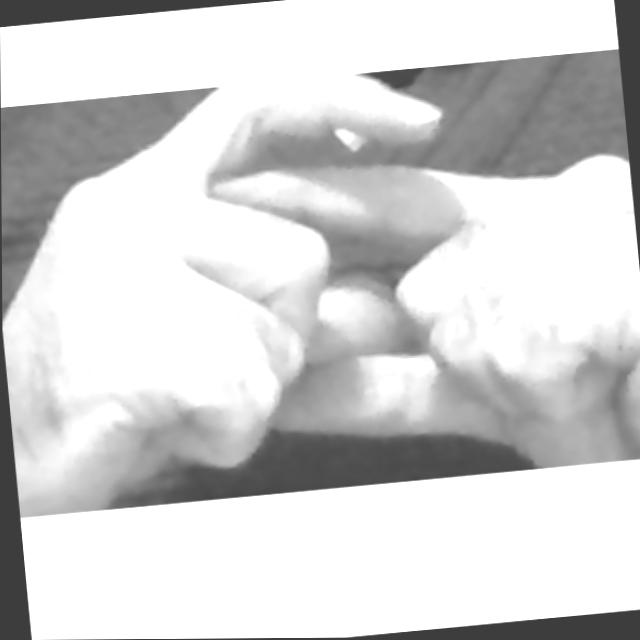G-: (0, 50, 640, 516)
